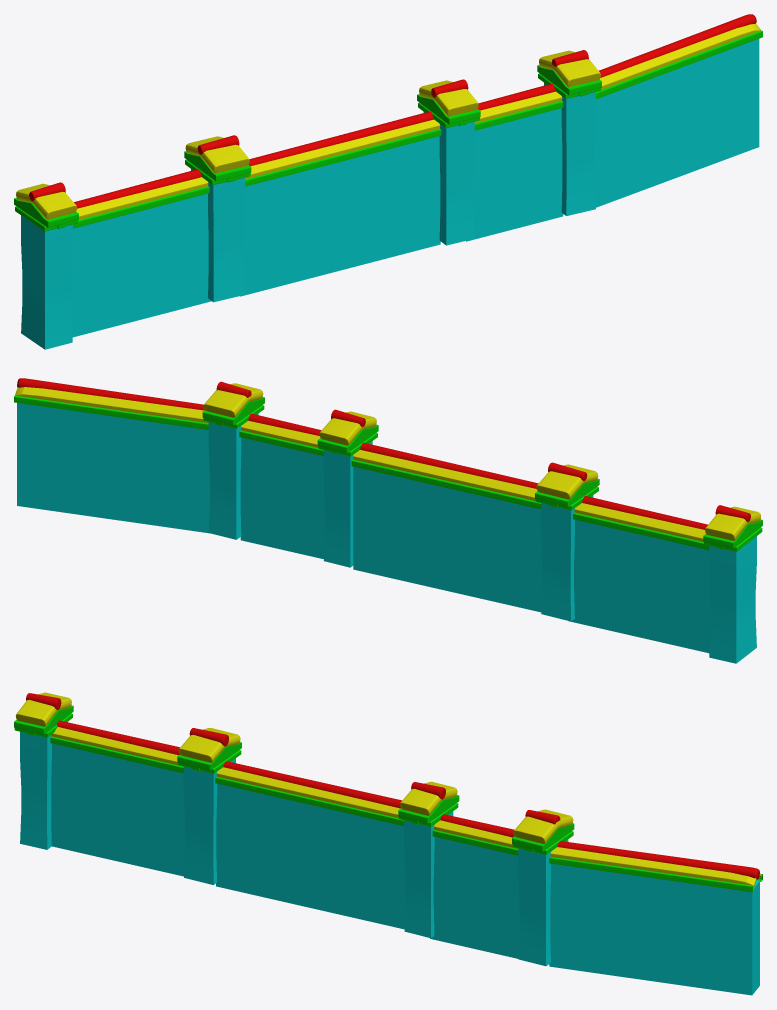
File: longGate Unity.fbx
3 views of the same model, one above another, from view 1: azimuth 30°, elevation 25°; view 2: azimuth 150°, elevation 25°; view 3: azimuth 330°, elevation 25° (orthographic). The views are drawn at different scales.
Visible parts, largest first — view 1: longGateUnity; view 2: longGateUnity; view 3: longGateUnity.
Boxes of the visible parts, left/top/right/bottom form: longGateUnity: left=14, top=14, right=762, bottom=349; longGateUnity: left=14, top=378, right=762, bottom=663; longGateUnity: left=14, top=692, right=762, bottom=995.
Bounding box in the file's own units: 33.17 × 6.54 × 3.74.
